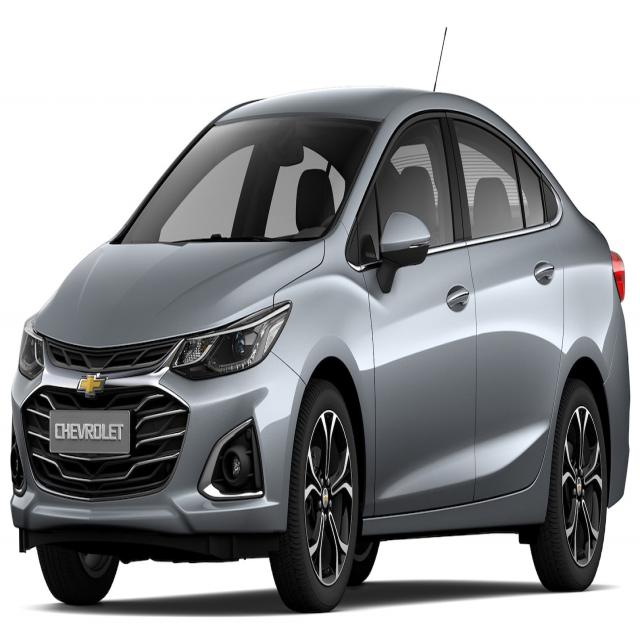car: (0, 56, 637, 623)
